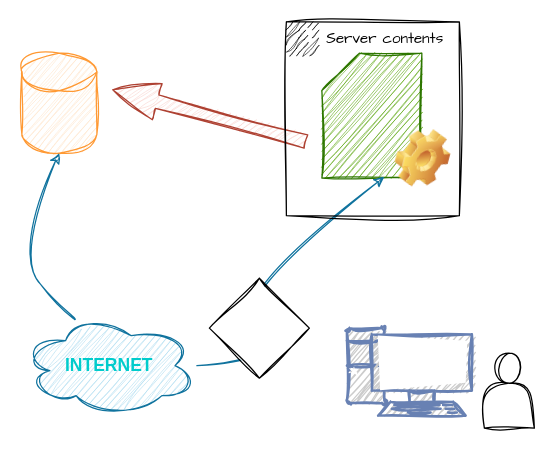
The diagram is 556 pixels wide and 450 high, and some of its shapes have lost their labels. The shapes that lost their labels are listed below. From the top down, each one's centre as x and y in pixels, then its label:
At (x=59, y=102): "DB".
At (x=371, y=115): "FILE".
